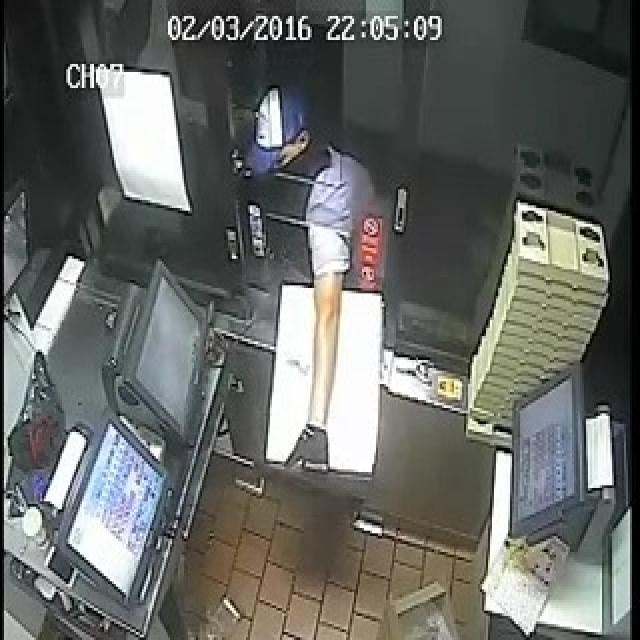thief: (265, 100, 376, 278)
